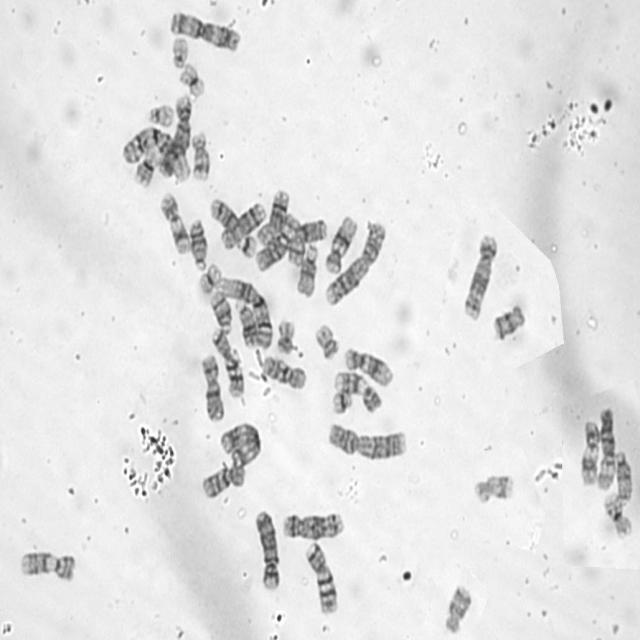A1: (212, 276, 275, 350), (121, 125, 192, 187)
A2: (323, 222, 387, 308), (326, 422, 410, 462)
A3: (168, 11, 242, 53), (220, 421, 263, 468)
B4: (157, 93, 192, 179), (250, 508, 281, 592)
B5: (462, 233, 498, 321), (281, 512, 344, 540)
C10: (262, 355, 308, 392), (200, 466, 246, 500)
C11: (158, 191, 191, 254), (579, 420, 600, 485)
C12: (343, 347, 394, 388), (324, 214, 356, 276)
C6: (253, 212, 300, 274), (596, 406, 615, 492)
C7: (304, 540, 338, 616), (210, 327, 246, 398)
C8: (218, 202, 266, 252), (255, 188, 290, 246)
C9: (332, 370, 383, 414), (17, 549, 78, 583)
D13: (235, 298, 258, 348), (188, 218, 209, 270)
D14: (209, 197, 241, 234), (208, 290, 233, 336)
D15: (295, 243, 318, 299), (615, 449, 633, 502)
E16: (602, 491, 635, 539), (133, 144, 162, 188)
E17: (472, 472, 514, 507), (190, 132, 211, 181)
E18: (444, 584, 472, 635), (491, 304, 526, 342)
F19: (179, 62, 207, 99), (197, 262, 222, 296)
F20: (315, 323, 340, 360), (276, 320, 296, 354)
G21: (235, 231, 259, 260), (332, 392, 353, 416)
G22: (170, 36, 190, 70), (147, 104, 175, 128)
X: (286, 218, 330, 267), (200, 354, 226, 422)
